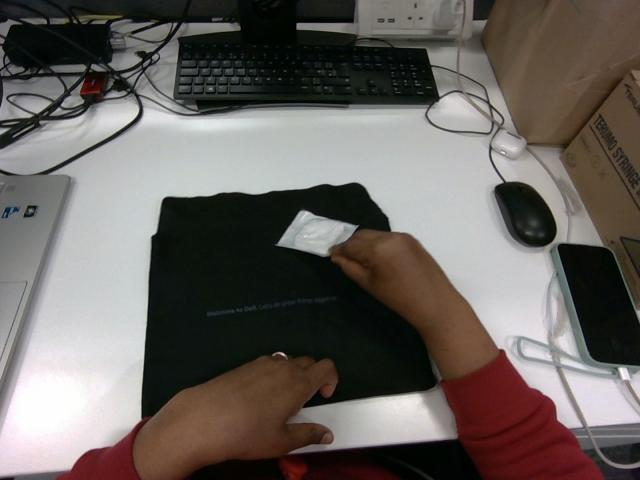gauze: (276, 210, 357, 256)
